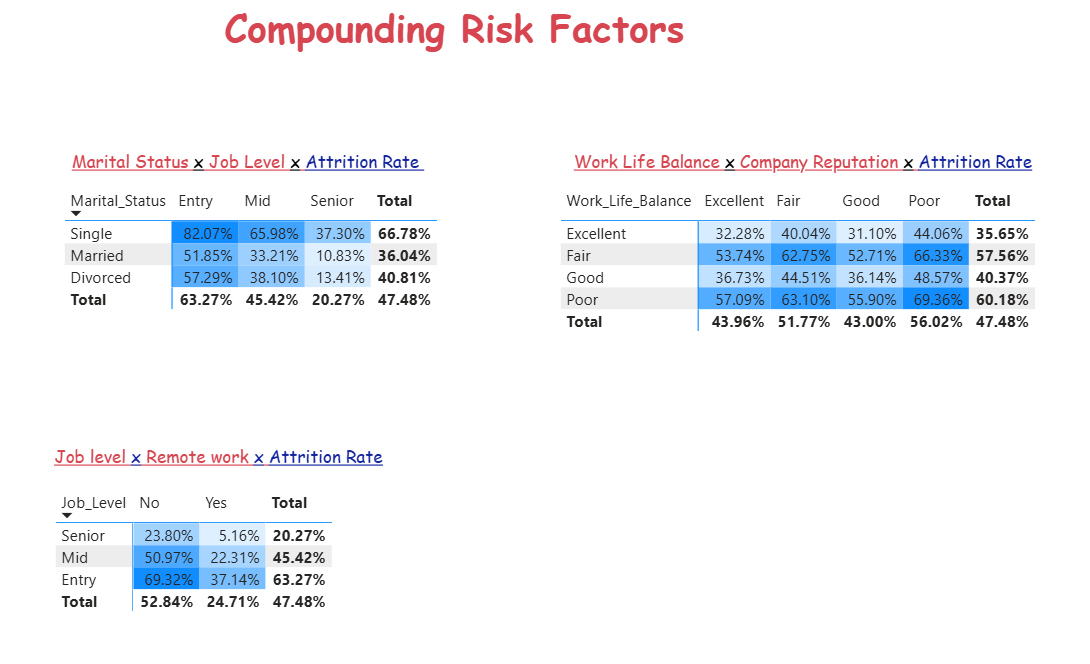

Layout of this report page (visuals, bound fields, positions):
{"tool":"powerbi","page":{"name":"Compounding Risk Factors","canvas":[1280,720],"ordinal":1},"visuals":[{"type":"pivotTable","fields":{"Rows":[" employee_attrition_raw_emp_attrition_csv.Job_Level"],"Columns":[" employee_attrition_raw_emp_attrition_csv.Remote_Work"],"Values":[" employee_attrition_raw_emp_attrition_csv.Attrition Rate"]},"box":[250.1,457.1,290.7,263.1],"z":0},{"type":"pivotTable","fields":{"Rows":[" employee_attrition_raw_emp_attrition_csv.Marital_Status"],"Columns":[" employee_attrition_raw_emp_attrition_csv.Job_Level"],"Values":[" employee_attrition_raw_emp_attrition_csv.Attrition Rate"]},"box":[257.9,196.7,358,246.7],"z":1},{"type":"pivotTable","fields":{"Rows":[" employee_attrition_raw_emp_attrition_csv.Work_Life_Balance"],"Columns":[" employee_attrition_raw_emp_attrition_csv.Company_Reputation"],"Values":[" employee_attrition_raw_emp_attrition_csv.Attrition Rate"]},"box":[685.7,196.7,427.8,300.2],"z":2},{"type":"textbox","box":[363.1,35.4,471.8,134.6],"z":3},{"type":"textbox","box":[202.7,417.5,385.6,39.7],"z":4},{"type":"textbox","box":[242.4,163,357.1,33.6],"z":5},{"type":"textbox","box":[695.2,163,408.8,33.6],"z":6}]}

Visuals, with their boxes on the page's 1280x720 design canvas (x1, y1, x2, y2). These are canvas units, not pixel positions in the 1090x664 screenshot, which may show the page scaled, cropped or inside an application window:
pivotTable -  employee_attrition_raw_emp_attrition_csv.Job_Level x  employee_attrition_raw_emp_attrition_csv.Remote_Work: (250, 457, 541, 720)
pivotTable -  employee_attrition_raw_emp_attrition_csv.Marital_Status x  employee_attrition_raw_emp_attrition_csv.Job_Level: (258, 197, 616, 443)
pivotTable -  employee_attrition_raw_emp_attrition_csv.Work_Life_Balance x  employee_attrition_raw_emp_attrition_csv.Company_Reputation: (686, 197, 1114, 497)
textbox: (363, 35, 835, 170)
textbox: (203, 418, 588, 457)
textbox: (242, 163, 600, 197)
textbox: (695, 163, 1104, 197)
